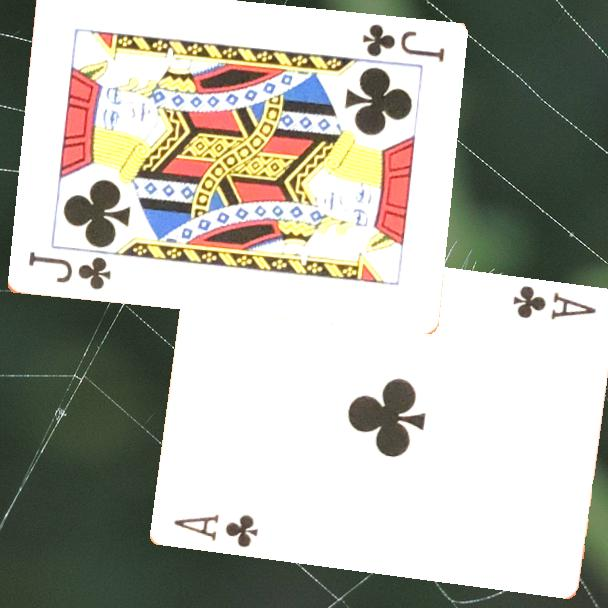c01: (508, 282, 598, 323), (170, 511, 260, 551)
c11: (25, 248, 114, 293), (359, 21, 447, 66)
